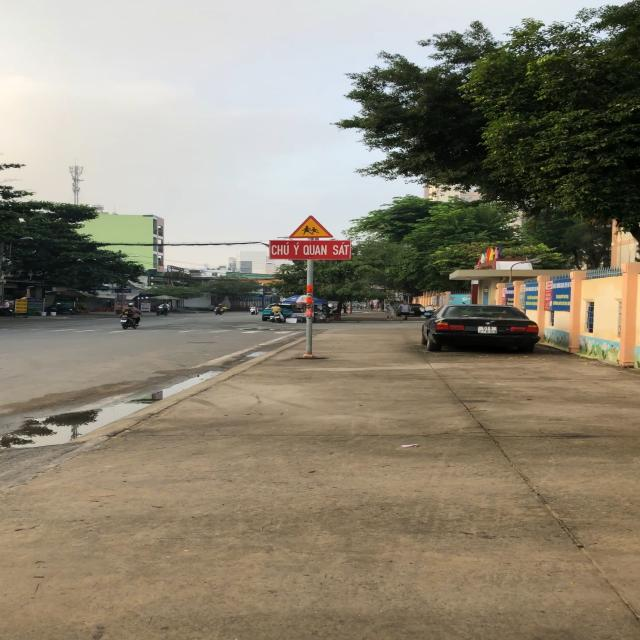Bien bao tre em: (288, 214, 333, 239)
